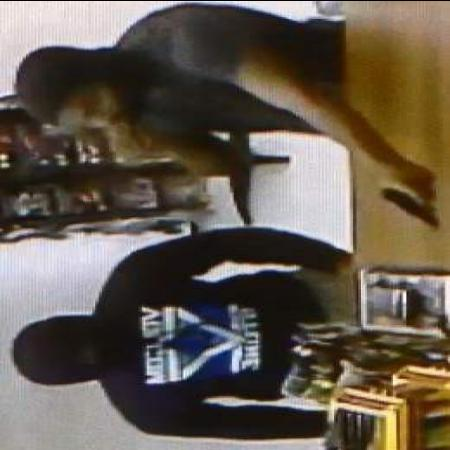Pistol: (368, 177, 440, 229)
